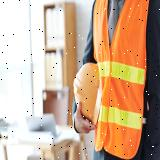Helmet: (74, 61, 105, 128)
Vest: (94, 0, 146, 160)
